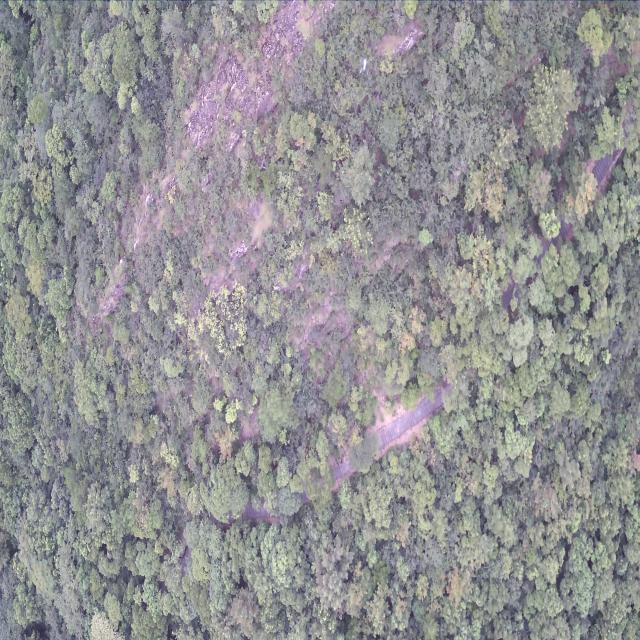UAV: (358, 54, 372, 76)
